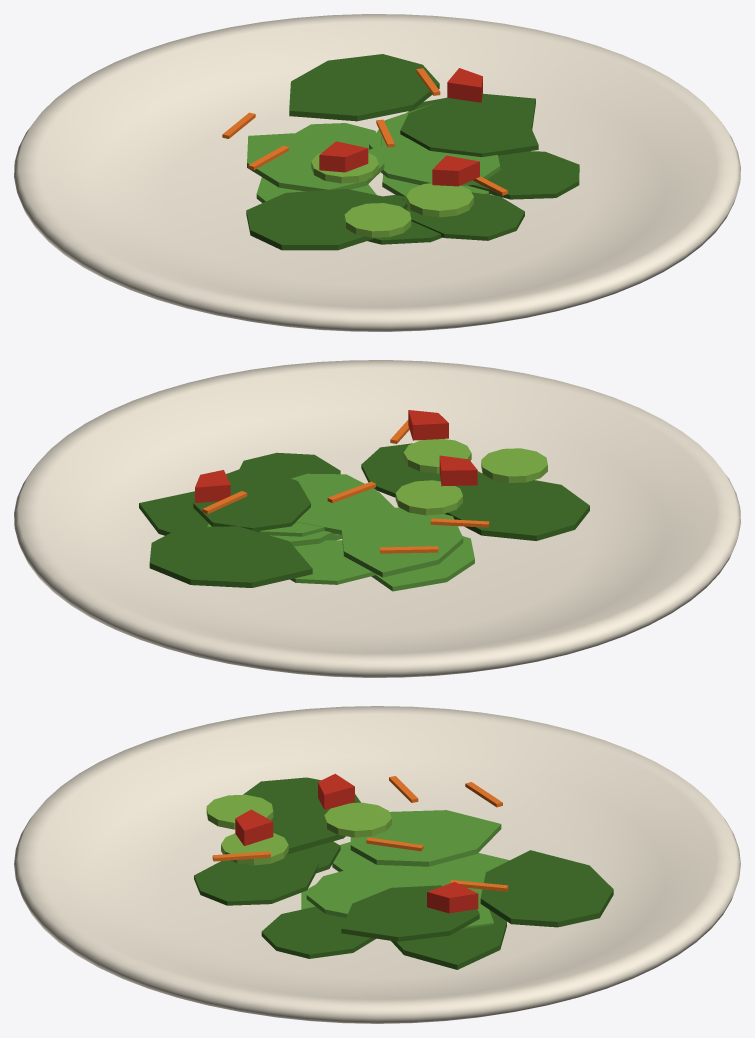
Rendered from meal_garden_salad_plate.glb.
The picture shows the model from 3 angles, top to bottom: view 1: azimuth 30°, elevation 25°; view 2: azimuth 150°, elevation 25°; view 3: azimuth 270°, elevation 25°; orthographic projection.
Parts seen in each view (by area): view 1: DishGeometry, FoodGeometry; view 2: DishGeometry, FoodGeometry; view 3: DishGeometry, FoodGeometry.
Boxes of the visible parts, <box> form: DishGeometry: <box>14,14,740,331</box>; FoodGeometry: <box>222,54,579,250</box>; DishGeometry: <box>14,360,740,677</box>; FoodGeometry: <box>139,410,589,591</box>; DishGeometry: <box>14,706,740,1023</box>; FoodGeometry: <box>194,773,613,969</box>.
Bounding box in the file's own units: 0.3 × 0.0467 × 0.3.
